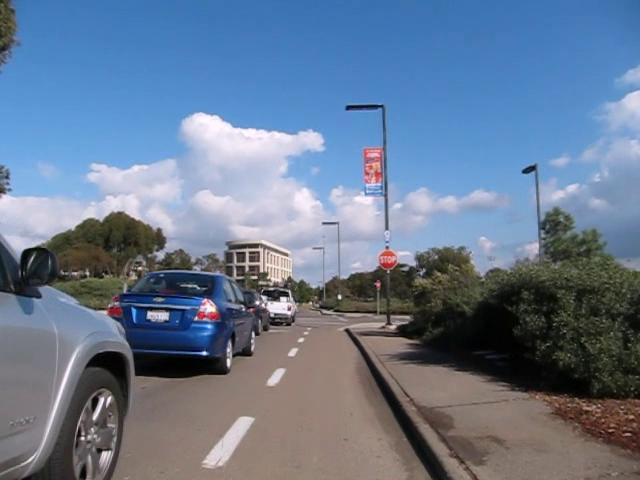stop: (377, 249, 398, 270)
